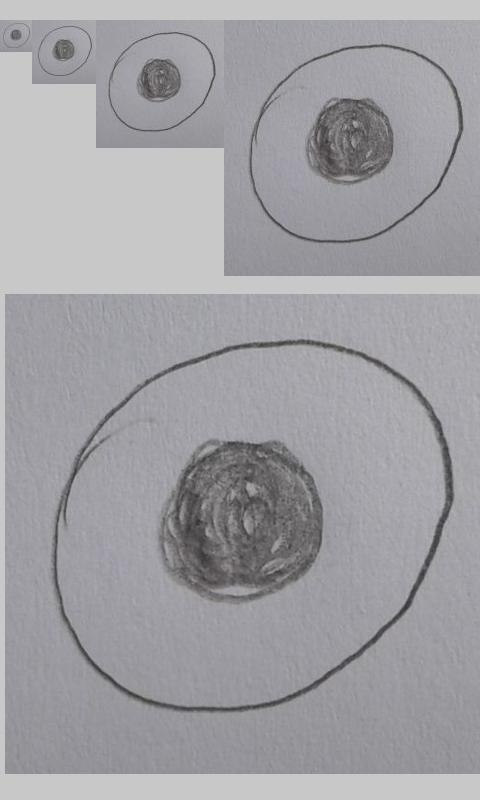radio_button: (47, 335, 454, 714), (248, 43, 465, 245), (107, 31, 216, 133), (37, 25, 93, 77), (2, 22, 31, 49)
